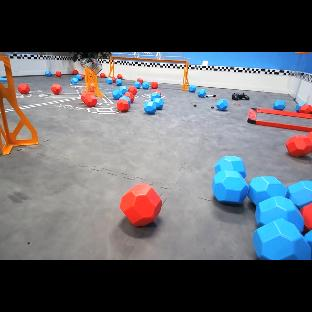V5_BLUE: (144, 101, 156, 114), (153, 98, 164, 109), (198, 89, 206, 97), (160, 99, 160, 99)
V5_RED: (119, 184, 162, 228)
